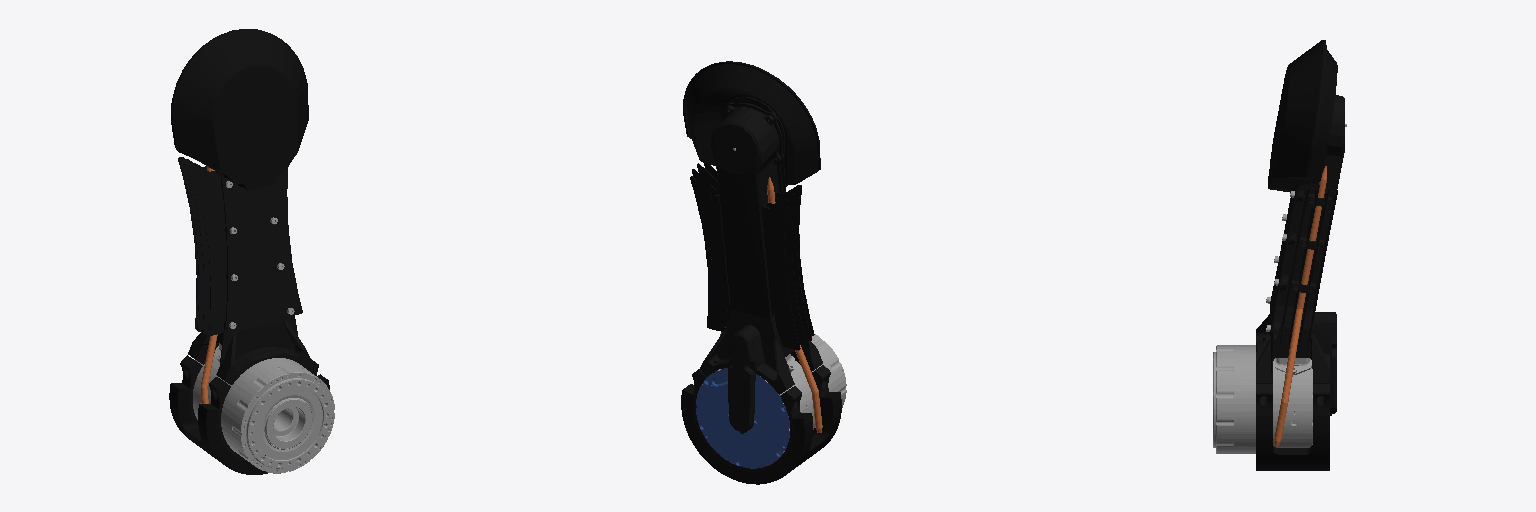
Rendered from anymal_thigh_r.obj.
3 renders of one model, left to right at view 1: azimuth 30°, elevation 25°; view 2: azimuth 150°, elevation 25°; view 3: azimuth 270°, elevation 25°, orthographic.
Parts seen in each view (by area): view 1: _42196_00-ASM_ANYmal_thigh_left_EDI_002_042196_00-ASM_ANYmal_thi, _42196_00-ASM_ANYmal_thigh_left_EDI_009_042196_00-ASM_ANYmal_thi, _42196_00-ASM_ANYmal_thigh_left_EDI_001_042196_00-ASM_ANYmal_thi, _42196_00-ASM_ANYmal_thigh_left_EDI_004_042196_00-ASM_ANYmal_thi, _42196_00-ASM_ANYmal_thigh_left_EDI_003_042196_00-ASM_ANYmal_thi, _42196_00-ASM_ANYmal_thigh_left_EDI_006_042196_00-ASM_ANYmal_thi, _42196_00-ASM_ANYmal_thigh_left_EDI_007_042196_00-ASM_ANYmal_thi, _42196_00-ASM_ANYmal_thigh_left_EDI_005_042196_00-ASM_ANYmal_thi; view 2: _42196_00-ASM_ANYmal_thigh_left_EDI_003_042196_00-ASM_ANYmal_thi, _42196_00-ASM_ANYmal_thigh_left_EDI_004_042196_00-ASM_ANYmal_thi, _42196_00-ASM_ANYmal_thigh_left_EDI_002_042196_00-ASM_ANYmal_thi, _42196_00-ASM_ANYmal_thigh_left_EDI_009_042196_00-ASM_ANYmal_thi, _42196_00-ASM_ANYmal_thigh_left_EDI_006_042196_00-ASM_ANYmal_thi, _42196_00-ASM_ANYmal_thigh_left_EDI_007_042196_00-ASM_ANYmal_thi, _42196_00-ASM_ANYmal_thigh_left_EDI_005_042196_00-ASM_ANYmal_thi; view 3: _42196_00-ASM_ANYmal_thigh_left_EDI_002_042196_00-ASM_ANYmal_thi, _42196_00-ASM_ANYmal_thigh_left_EDI_009_042196_00-ASM_ANYmal_thi, _42196_00-ASM_ANYmal_thigh_left_EDI_003_042196_00-ASM_ANYmal_thi, _42196_00-ASM_ANYmal_thigh_left_EDI_004_042196_00-ASM_ANYmal_thi, _42196_00-ASM_ANYmal_thigh_left_EDI_006_042196_00-ASM_ANYmal_thi, _42196_00-ASM_ANYmal_thigh_left_EDI_005_042196_00-ASM_ANYmal_thi, _42196_00-ASM_ANYmal_thigh_left_EDI_007_042196_00-ASM_ANYmal_thi, _42196_00-ASM_ANYmal_thigh_left_EDI_001_042196_00-ASM_ANYmal_thi.
Boxes of the visible parts, box(x1,y1,x2,y2) form: _42196_00-ASM_ANYmal_thigh_left_EDI_002_042196_00-ASM_ANYmal_thi: box(171, 29, 308, 189); _42196_00-ASM_ANYmal_thigh_left_EDI_009_042196_00-ASM_ANYmal_thi: box(193, 352, 334, 473); _42196_00-ASM_ANYmal_thigh_left_EDI_001_042196_00-ASM_ANYmal_thi: box(220, 174, 294, 332); _42196_00-ASM_ANYmal_thigh_left_EDI_004_042196_00-ASM_ANYmal_thi: box(178, 157, 302, 335); _42196_00-ASM_ANYmal_thigh_left_EDI_003_042196_00-ASM_ANYmal_thi: box(188, 183, 310, 384); _42196_00-ASM_ANYmal_thigh_left_EDI_006_042196_00-ASM_ANYmal_thi: box(169, 374, 329, 474); _42196_00-ASM_ANYmal_thigh_left_EDI_007_042196_00-ASM_ANYmal_thi: box(180, 355, 318, 461); _42196_00-ASM_ANYmal_thigh_left_EDI_005_042196_00-ASM_ANYmal_thi: box(200, 166, 217, 403); _42196_00-ASM_ANYmal_thigh_left_EDI_003_042196_00-ASM_ANYmal_thi: box(700, 102, 822, 433); _42196_00-ASM_ANYmal_thigh_left_EDI_004_042196_00-ASM_ANYmal_thi: box(690, 163, 814, 350); _42196_00-ASM_ANYmal_thigh_left_EDI_002_042196_00-ASM_ANYmal_thi: box(683, 61, 820, 186); _42196_00-ASM_ANYmal_thigh_left_EDI_009_042196_00-ASM_ANYmal_thi: box(696, 334, 846, 468); _42196_00-ASM_ANYmal_thigh_left_EDI_006_042196_00-ASM_ANYmal_thi: box(681, 384, 841, 484); _42196_00-ASM_ANYmal_thigh_left_EDI_007_042196_00-ASM_ANYmal_thi: box(692, 365, 830, 471); _42196_00-ASM_ANYmal_thigh_left_EDI_005_042196_00-ASM_ANYmal_thi: box(720, 177, 822, 432); _42196_00-ASM_ANYmal_thigh_left_EDI_002_042196_00-ASM_ANYmal_thi: box(1268, 40, 1337, 192); _42196_00-ASM_ANYmal_thigh_left_EDI_009_042196_00-ASM_ANYmal_thi: box(1213, 345, 1312, 453); _42196_00-ASM_ANYmal_thigh_left_EDI_003_042196_00-ASM_ANYmal_thi: box(1256, 95, 1344, 415); _42196_00-ASM_ANYmal_thigh_left_EDI_004_042196_00-ASM_ANYmal_thi: box(1280, 185, 1337, 350); _42196_00-ASM_ANYmal_thigh_left_EDI_006_042196_00-ASM_ANYmal_thi: box(1256, 413, 1329, 470); _42196_00-ASM_ANYmal_thigh_left_EDI_005_042196_00-ASM_ANYmal_thi: box(1274, 166, 1326, 446); _42196_00-ASM_ANYmal_thigh_left_EDI_007_042196_00-ASM_ANYmal_thi: box(1256, 384, 1329, 412); _42196_00-ASM_ANYmal_thigh_left_EDI_001_042196_00-ASM_ANYmal_thi: box(1270, 186, 1298, 335).
Bounding box in the file's own units: 130 × 380 × 110.